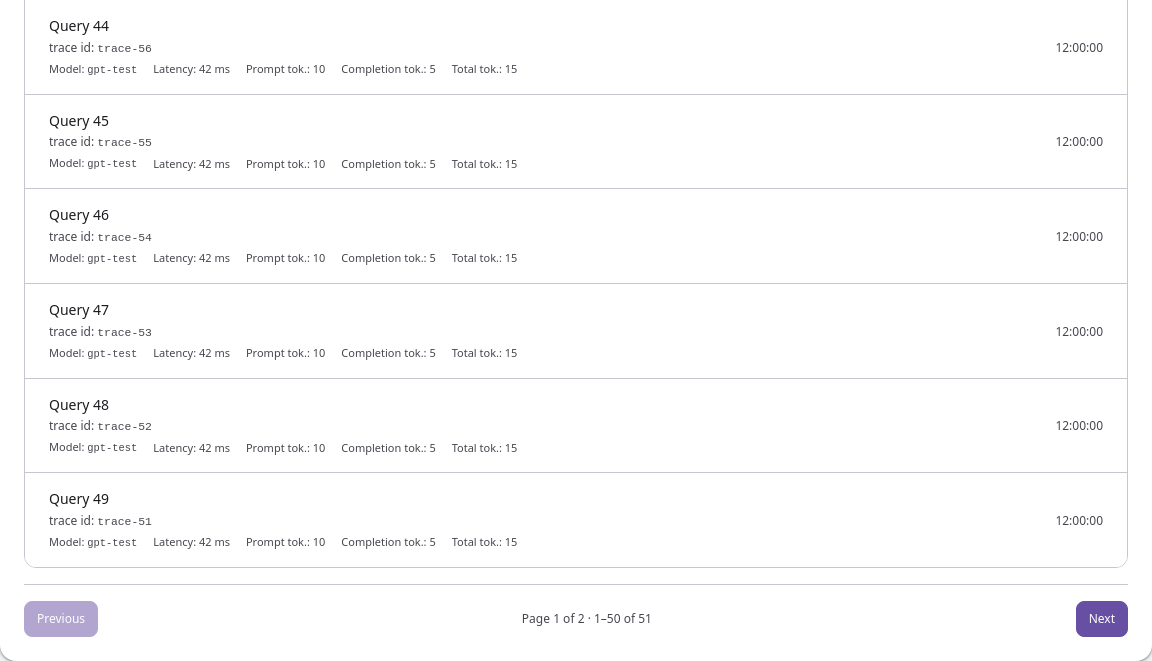
Scenario: ProxyJournalTab › loads page 2 with offset instead of since_id
(page scrolled)
Click the button "Next" at (1102, 619), box [1076,601,1128,637]
(page scrolled)
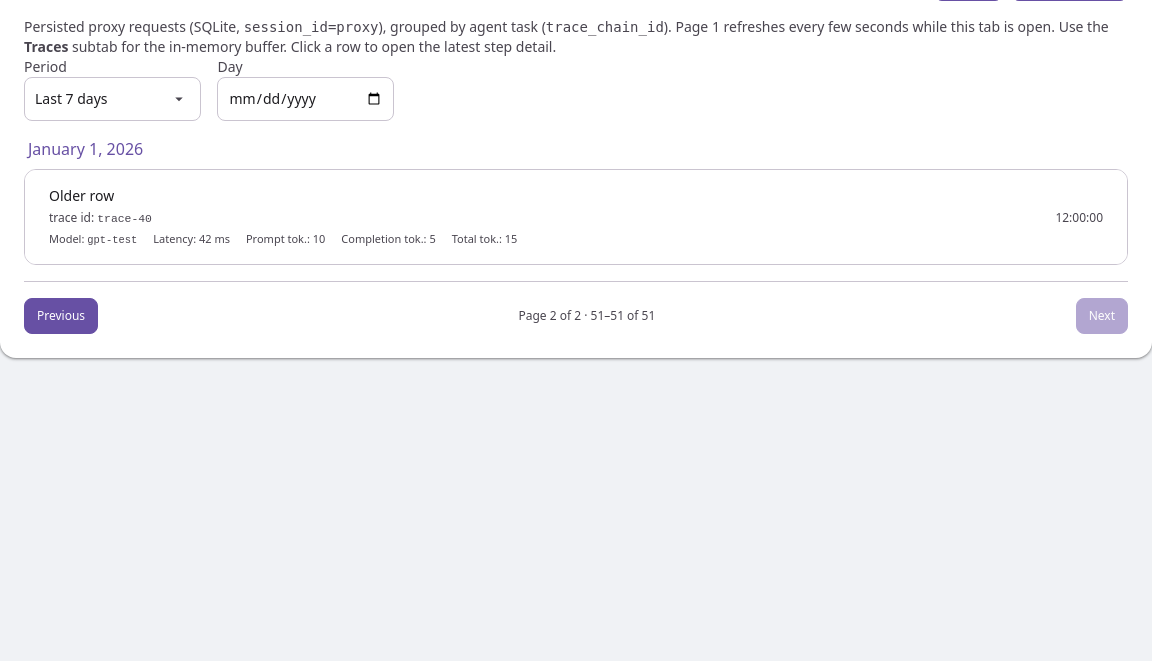
Expected: the text "Older row" is shown, [49,186,114,205]
